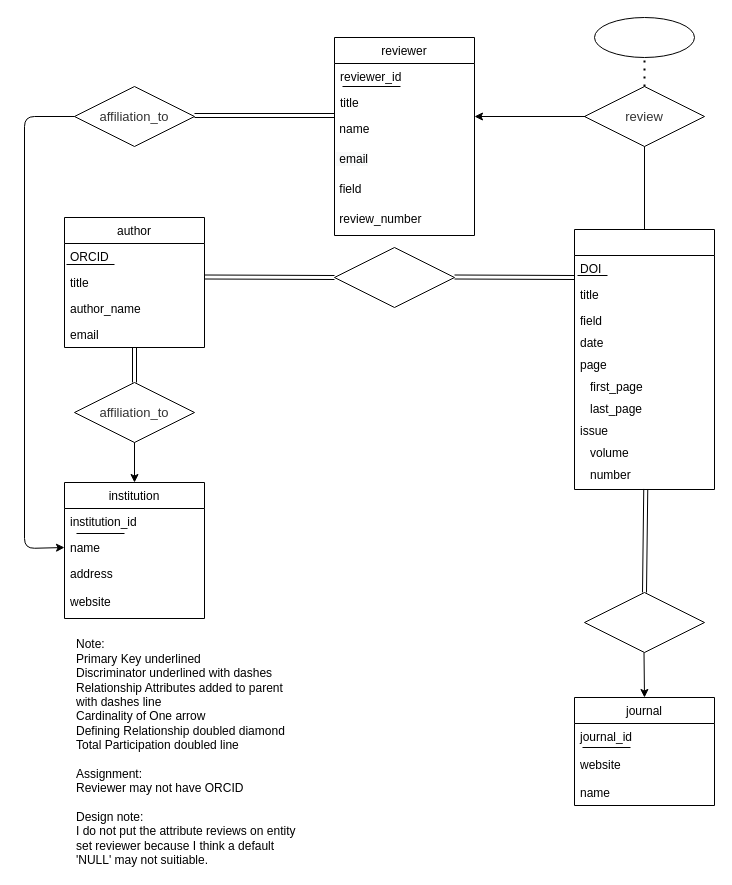
This 732x885 diagram has some shape labels left out. The shapes that lost their labels are listed below. From the top down, each one's box as (x1, y1, x2, y2) in pixels, then its label:
(594, 16, 694, 58): reviews
(334, 246, 454, 308): write
(574, 228, 714, 490): publication
(584, 592, 704, 652): published
